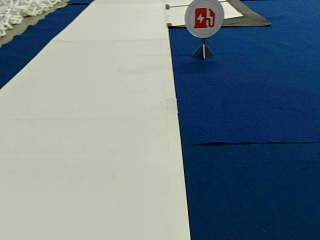battery: (184, 0, 224, 38)
